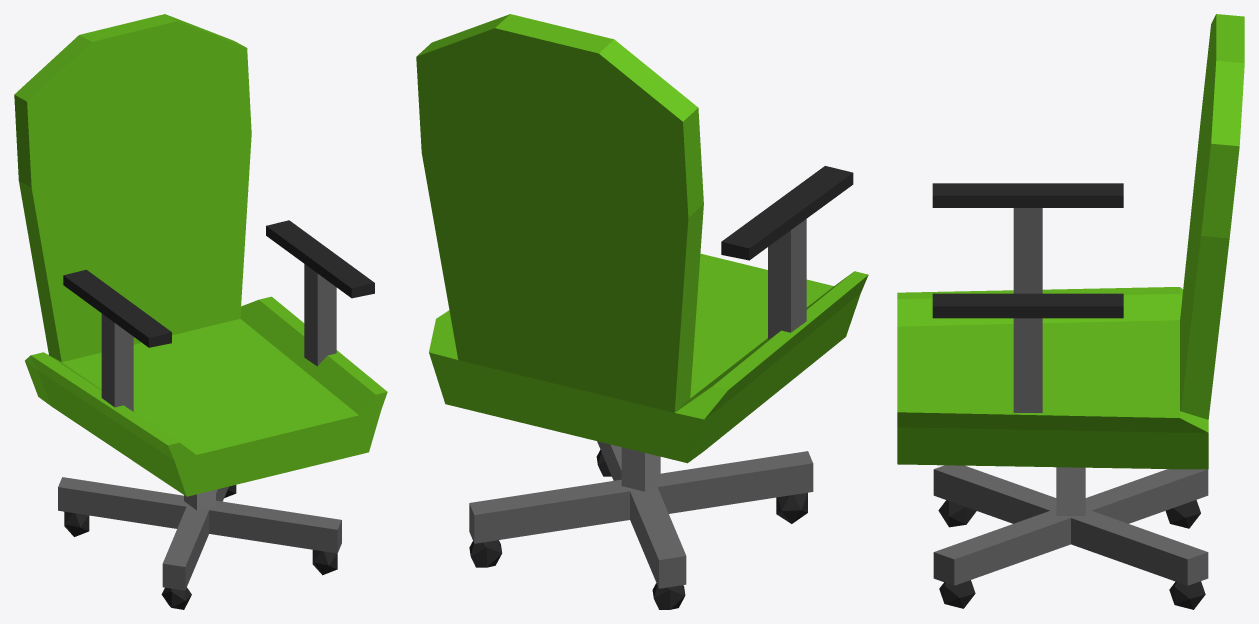
File: Chair_Green.fbx
3 renders of one model, left to right at view 1: azimuth 30°, elevation 25°; view 2: azimuth 150°, elevation 25°; view 3: azimuth 270°, elevation 25°, orthographic. The views are drawn at different scales.
Visible parts, largest first — view 1: Chair_Green; view 2: Chair_Green; view 3: Chair_Green.
Part boxes in pixels (box(x1,y1,x2,y2)): Chair_Green: box(14, 14, 387, 609); Chair_Green: box(416, 14, 868, 609); Chair_Green: box(897, 14, 1244, 609).
Bounding box in the file's own units: 52.6 × 98.72 × 58.86.
